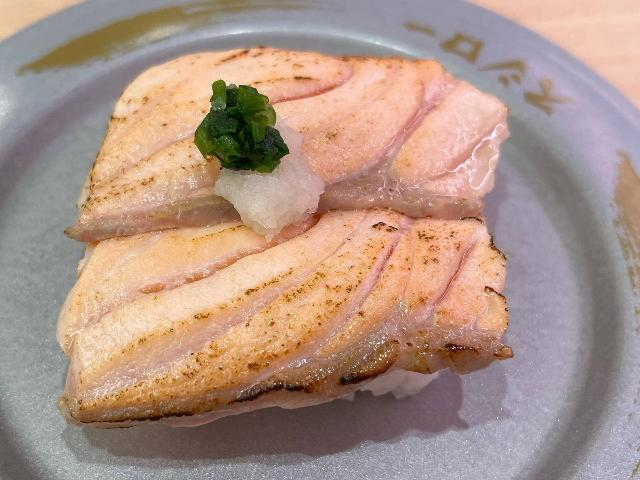janwhite: (0, 31, 635, 480)
